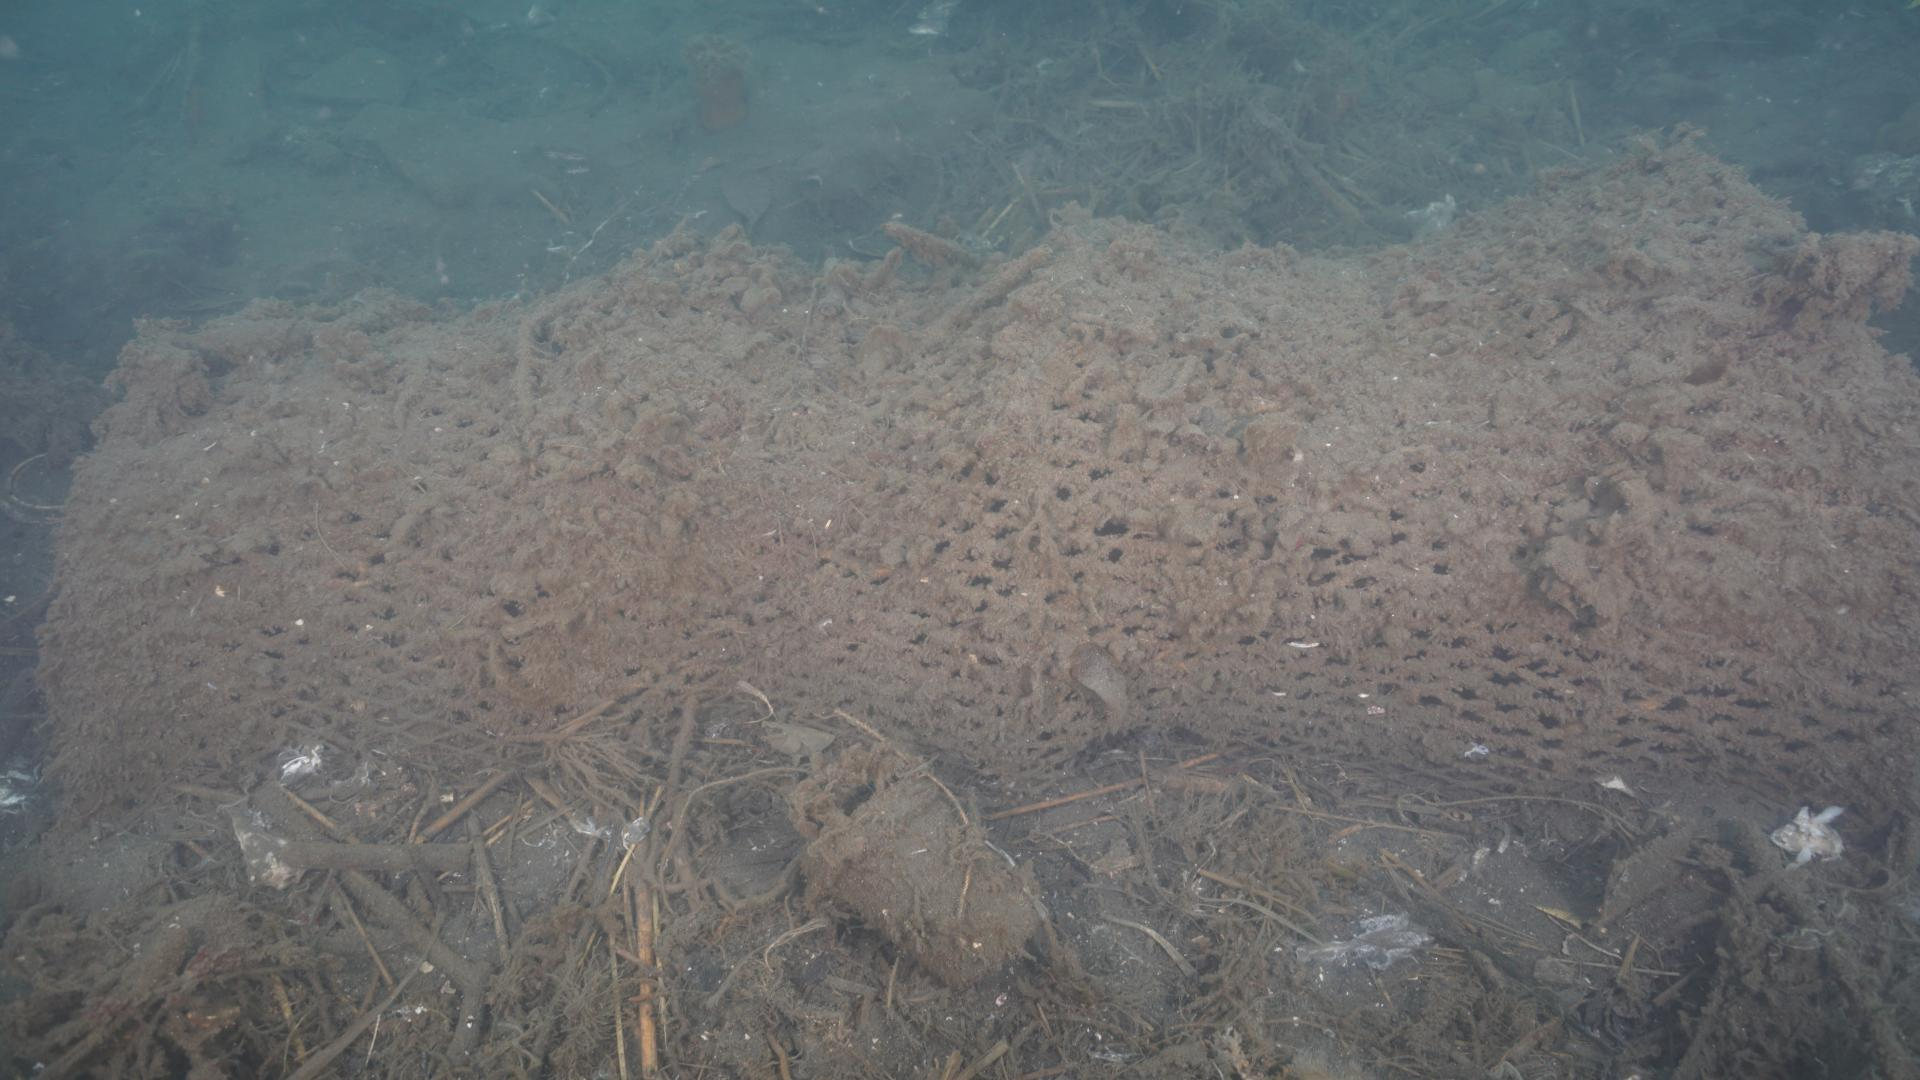spring fish trap: (30, 149, 1920, 816)
